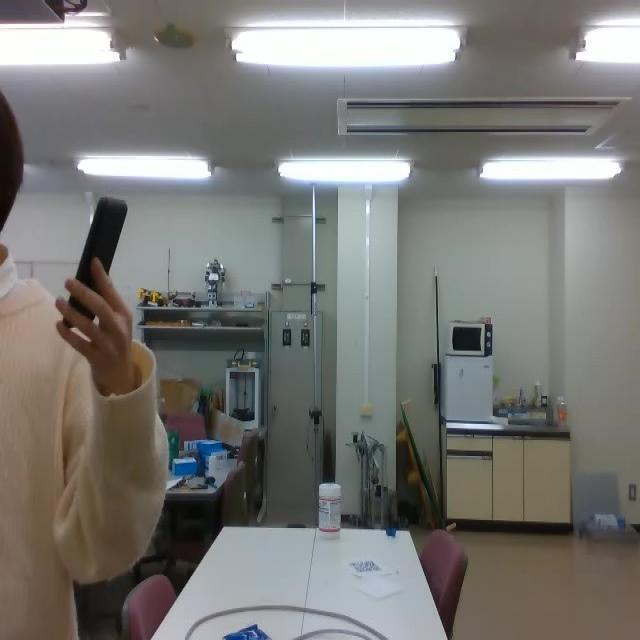Phone: (62, 195, 130, 332)
